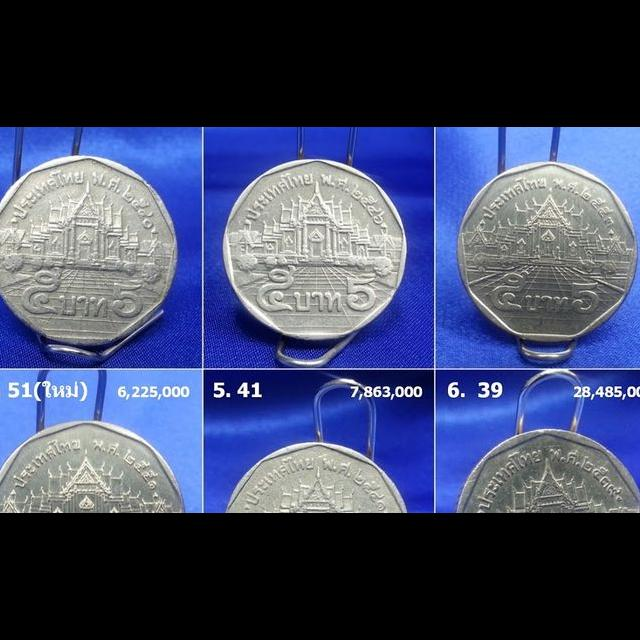5-baht: (0, 150, 179, 349), (220, 154, 408, 343), (452, 156, 640, 344)
